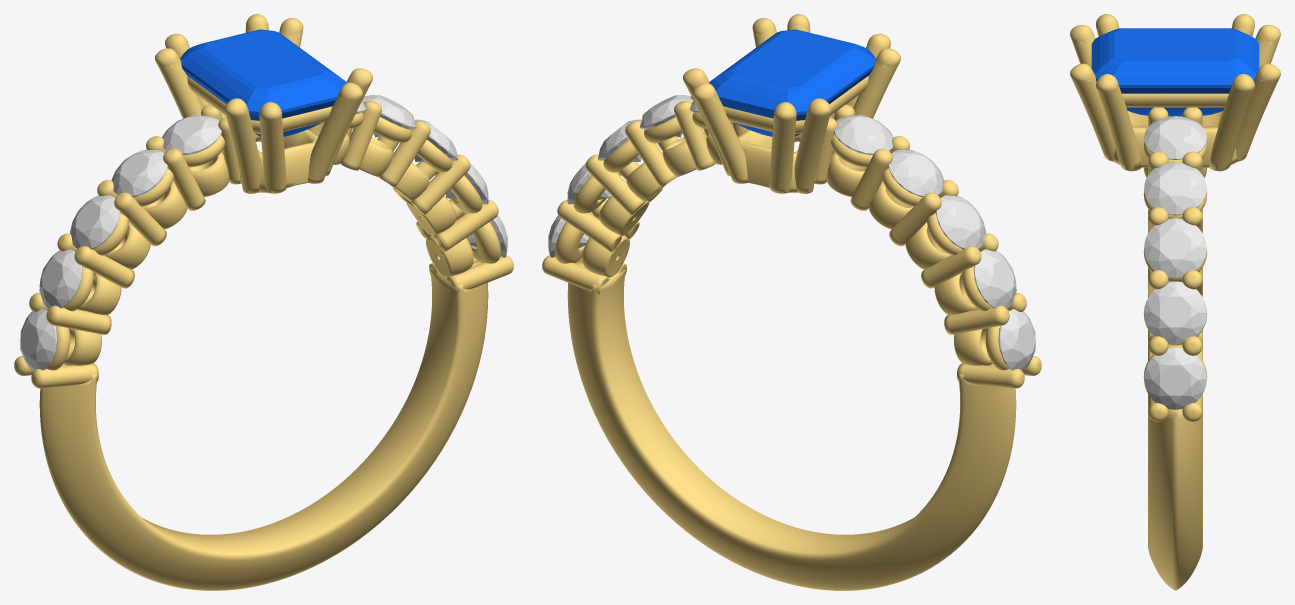
The model's file is bluesapphire-emerald-yellowgold-8prong-knifeedge-11stone.glb.
3 views of the same model, side by side, from view 1: azimuth 30°, elevation 25°; view 2: azimuth 150°, elevation 25°; view 3: azimuth 270°, elevation 25° (orthographic).
Parts seen in each view (by area): view 1: metal.001, stone, side.004, side.003, side.005, side, side.006, side.010; view 2: metal.001, stone, side.004, side.003, side.005, side, side.006, side.010; view 3: metal.001, stone, side.008, side.007, side.009, side.010, side.011.
Part boxes in pixels (bbox=[...]): metal.001: bbox=[14, 14, 513, 590]; stone: bbox=[180, 29, 347, 136]; side.004: bbox=[70, 195, 119, 249]; side.003: bbox=[39, 249, 82, 308]; side.005: bbox=[111, 149, 167, 196]; side: bbox=[20, 309, 57, 370]; side.006: bbox=[162, 115, 221, 155]; side.010: bbox=[362, 95, 415, 137]; metal.001: bbox=[542, 14, 1041, 590]; stone: bbox=[708, 29, 875, 136]; side.004: bbox=[936, 195, 985, 249]; side.003: bbox=[973, 249, 1016, 308]; side.005: bbox=[888, 149, 944, 196]; side: bbox=[998, 309, 1035, 370]; side.006: bbox=[834, 115, 893, 155]; side.010: bbox=[640, 95, 693, 137]; metal.001: bbox=[1070, 14, 1280, 590]; stone: bbox=[1091, 28, 1259, 116]; side.008: bbox=[1144, 281, 1206, 344]; side.007: bbox=[1144, 347, 1206, 409]; side.009: bbox=[1144, 218, 1206, 278]; side.010: bbox=[1144, 161, 1206, 215]; side.011: bbox=[1144, 116, 1206, 159].
Size of the model in its own units: 21.87 by 22.94 by 8.4.
